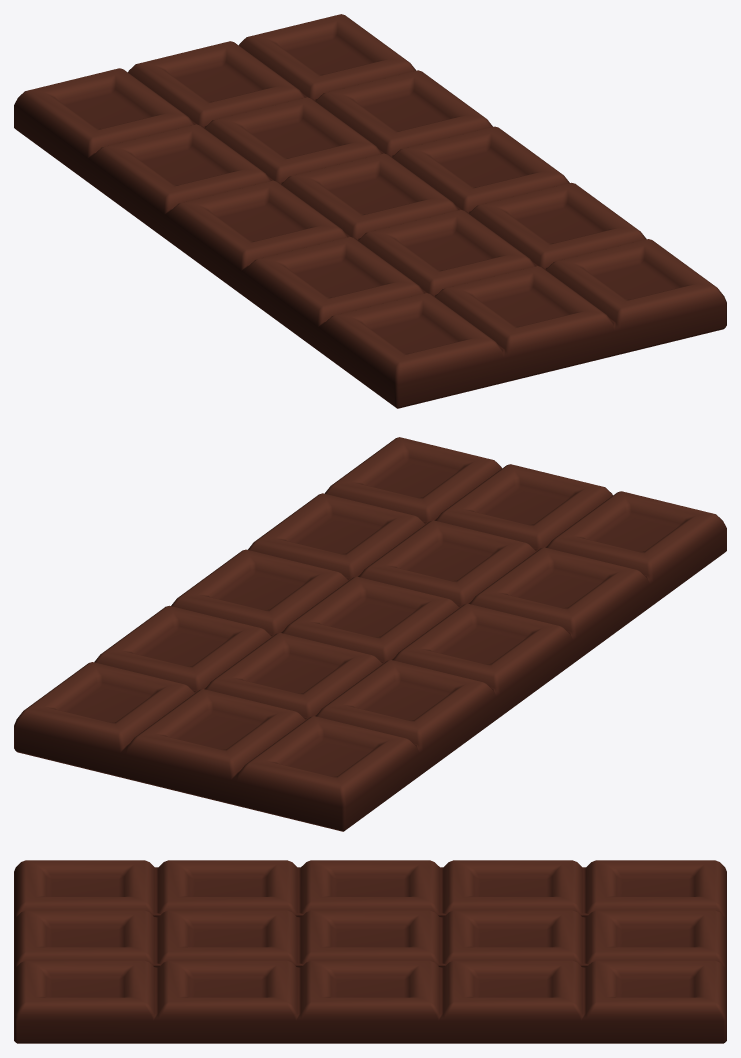
Rendered from Chocolate_03.glb.
3 views of the same model, one above another, from view 1: azimuth 30°, elevation 25°; view 2: azimuth 150°, elevation 25°; view 3: azimuth 270°, elevation 25° (orthographic). The views are drawn at different scales.
Parts seen in each view (by area): view 1: Chocolate_03; view 2: Chocolate_03; view 3: Chocolate_03.
Boxes of the visible parts, <box> form: Chocolate_03: <box>14,14,726,408</box>; Chocolate_03: <box>14,437,726,831</box>; Chocolate_03: <box>14,860,726,1043</box>.
Size of the model in its own units: 4.5 by 0.5408 by 9.
Materials: 1 (1 with a texture image).
